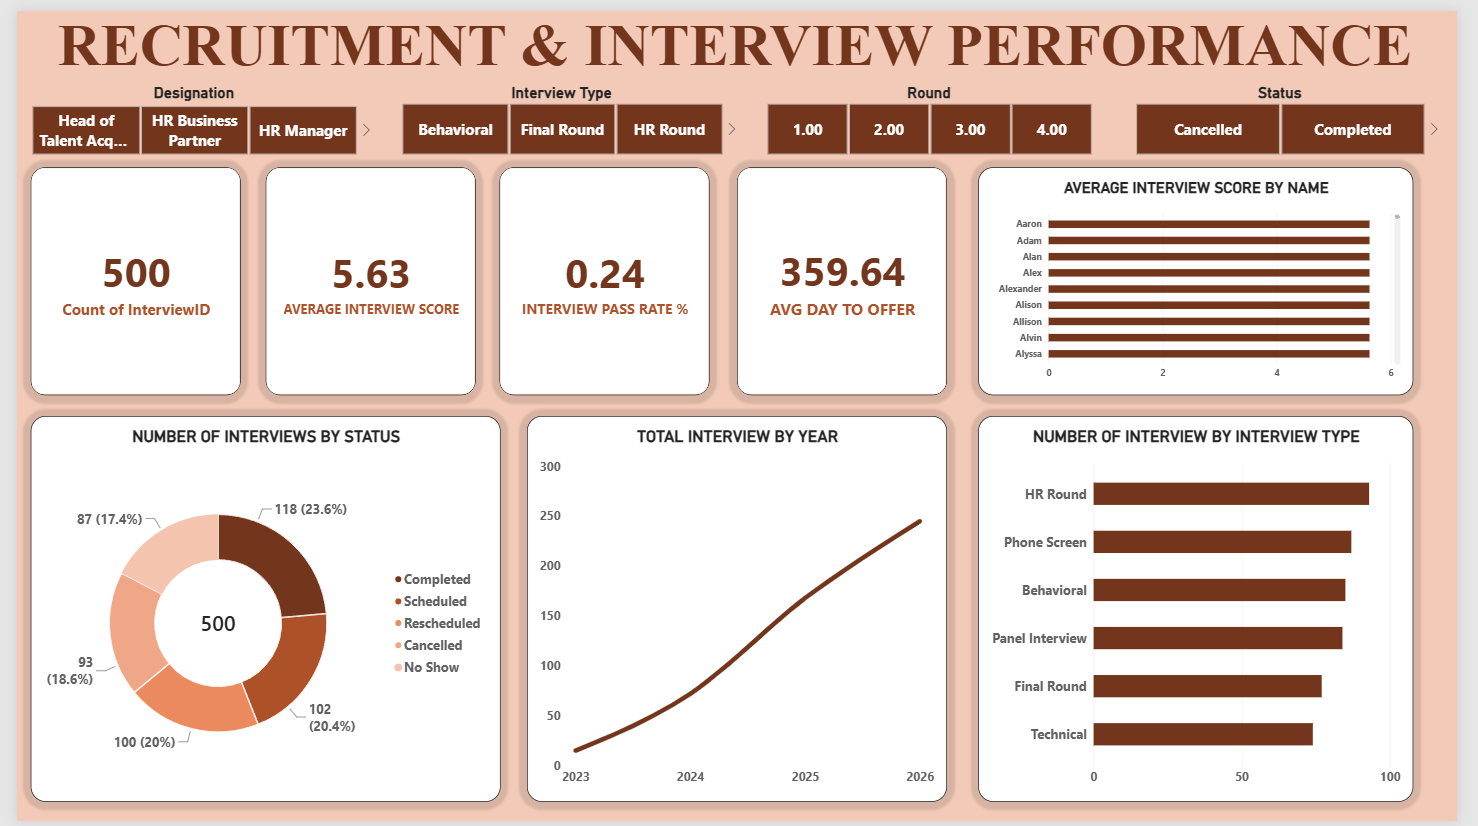

What the dashboard file says about the page in this screenshot:
{"tool":"powerbi","page":{"name":"RECRUITMENT & INTERVIEW PERFORMANCE","canvas":[1920,1080],"ordinal":5},"visuals":[{"type":"cardVisual","fields":{"Data":["CountNonNull(Interviews.InterviewID)"]},"box":[18,208,280,304],"z":0},{"type":"cardVisual","fields":{"Data":["Applications.AVERAGE INTERVIEW SCORE"]},"box":[332,208,280,304],"z":1000},{"type":"cardVisual","fields":{"Data":["Applications.INTERVIEW PASS RATE %"]},"box":[644,208,280,304],"z":2000},{"type":"cardVisual","fields":{"Data":["Applications.AVG DAY TO OFFER"]},"box":[960,208,280,304],"z":3000},{"type":"donutChart","title":"NUMBER OF INTERVIEWS BY STATUS","fields":{"Category":["Interviews.Status"],"Y":["CountNonNull(Interviews.InterviewID)"]},"box":[18,540,626,514],"z":4000},{"type":"lineChart","title":"TOTAL INTERVIEW BY YEAR","fields":{"Category":["Interviews.InterviewDate.Variation.Date Hierarchy.Year","Interviews.InterviewDate.Variation.Date Hierarchy.Quarter","Interviews.InterviewDate.Variation.Date Hierarchy.Month","Interviews.InterviewDate.Variation.Date Hierarchy.Day"],"Y":["Applications.TOTAL INTERVIEW"]},"box":[680,540,560,514],"z":5000},{"type":"clusteredBarChart","title":"NUMBER OF INTERVIEW BY INTERVIEW TYPE","fields":{"Category":["Interviews.InterviewType"],"Y":["CountNonNull(Interviews.InterviewID)"]},"box":[1282,540,580,514],"z":6000},{"type":"clusteredBarChart","title":"AVERAGE INTERVIEW SCORE BY NAME","fields":{"Category":["Recruiters.FirstName"],"Y":["Applications.AVERAGE INTERVIEW SCORE"]},"box":[1282,208,580,304],"z":7000},{"type":"textbox","title":"RECRUITMENT & INTERVIEW PERFORMANCE","box":[18,0,1878,96],"z":8000},{"type":"slicer","title":"Designation","fields":{"Values":["Recruiters.Designation"]},"box":[0,96,472,96],"z":9000},{"type":"slicer","title":"Status","fields":{"Values":["Interviews.Status"]},"box":[1472,96,424,96],"z":10000},{"type":"slicer","title":"Round","fields":{"Values":["Interviews.Round"]},"box":[980,96,472,96],"z":11000},{"type":"slicer","title":"Interview Type","fields":{"Values":["Interviews.InterviewType"]},"box":[494,96,466,96],"z":12000}]}

Visuals, with their boxes in screenshot pixels (x1, y1, x2, y2), scaled from the page's 1920x1080 canvas onto the 1478x826 screenshot:
cardVisual - CountNonNull(Interviews.InterviewID): <region>14, 159, 229, 392</region>
cardVisual - Applications.AVERAGE INTERVIEW SCORE: <region>256, 159, 471, 392</region>
cardVisual - Applications.INTERVIEW PASS RATE %: <region>496, 159, 711, 392</region>
cardVisual - Applications.AVG DAY TO OFFER: <region>739, 159, 955, 392</region>
"NUMBER OF INTERVIEWS BY STATUS" donutChart: <region>14, 413, 496, 806</region>
"TOTAL INTERVIEW BY YEAR" lineChart: <region>523, 413, 955, 806</region>
"NUMBER OF INTERVIEW BY INTERVIEW TYPE" clusteredBarChart: <region>987, 413, 1433, 806</region>
"AVERAGE INTERVIEW SCORE BY NAME" clusteredBarChart: <region>987, 159, 1433, 392</region>
"RECRUITMENT & INTERVIEW PERFORMANCE" textbox: <region>14, 0, 1460, 73</region>
"Designation" slicer: <region>0, 73, 363, 147</region>
"Status" slicer: <region>1133, 73, 1460, 147</region>
"Round" slicer: <region>754, 73, 1118, 147</region>
"Interview Type" slicer: <region>380, 73, 739, 147</region>
